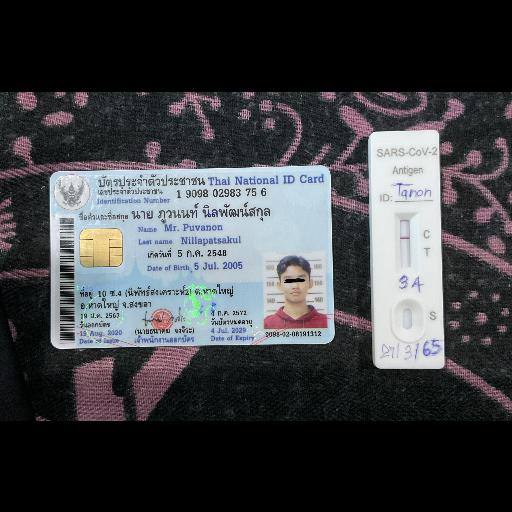Neg: (370, 130, 444, 366)
